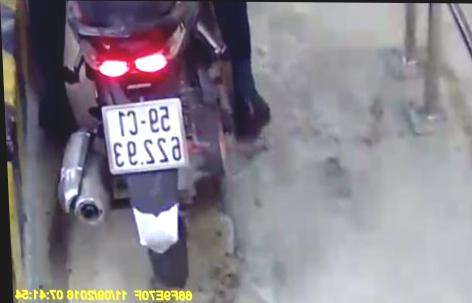License_Plate: (97, 92, 192, 179)
